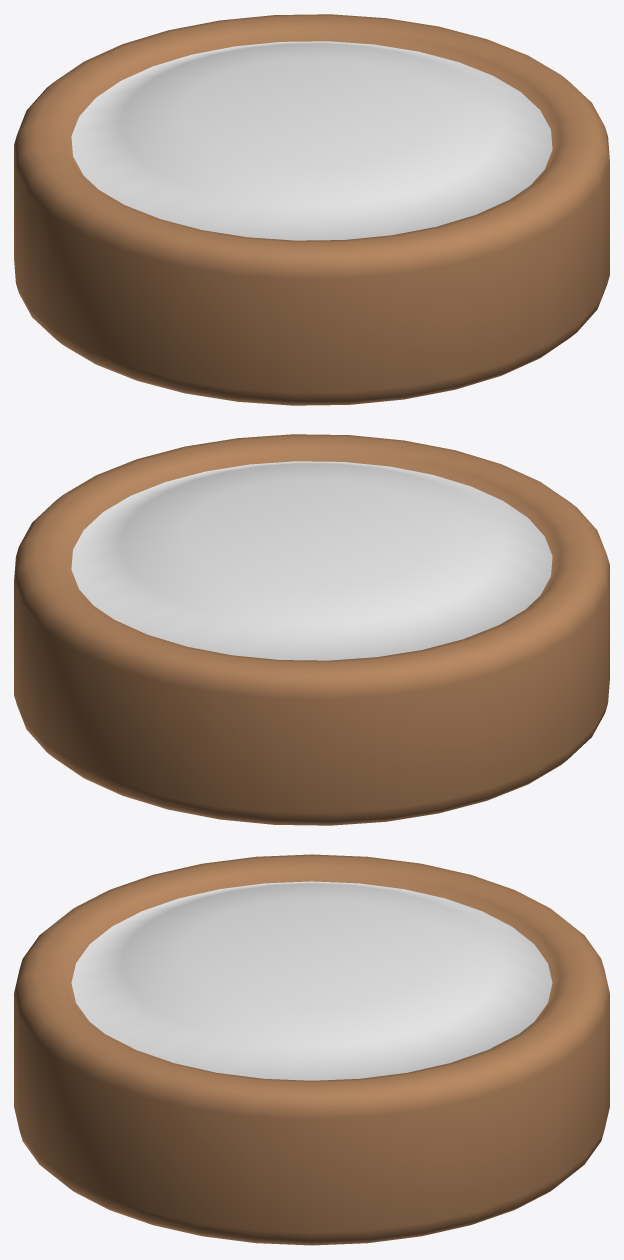
Rendered from Compass.fbx.
3 views of the same model, one above another, from view 1: azimuth 30°, elevation 25°; view 2: azimuth 150°, elevation 25°; view 3: azimuth 270°, elevation 25° (orthographic).
Parts seen in each view (by area): view 1: Compass; view 2: Compass; view 3: Compass.
Boxes of the visible parts, left/top/right/bottom form: Compass: left=14, top=14, right=609, bottom=405; Compass: left=14, top=434, right=609, bottom=825; Compass: left=14, top=854, right=609, bottom=1245.
Bounding box in the file's own units: 21.41 × 21.41 × 6.9.
